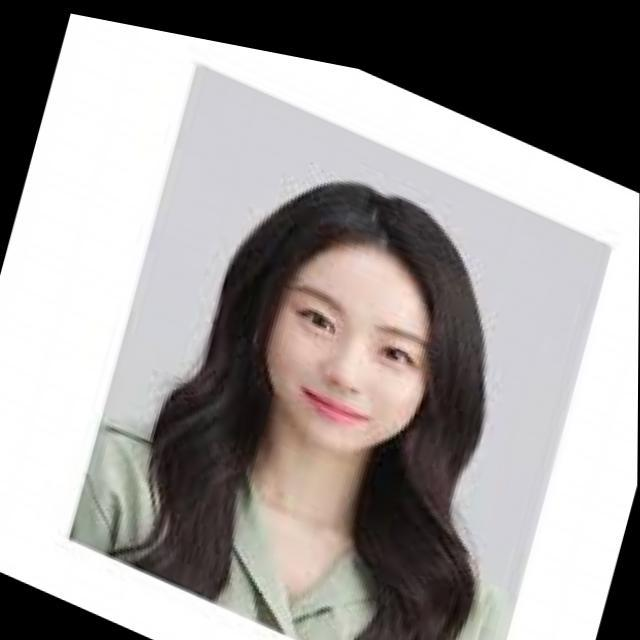Nonhelmet: (242, 172, 454, 455)
